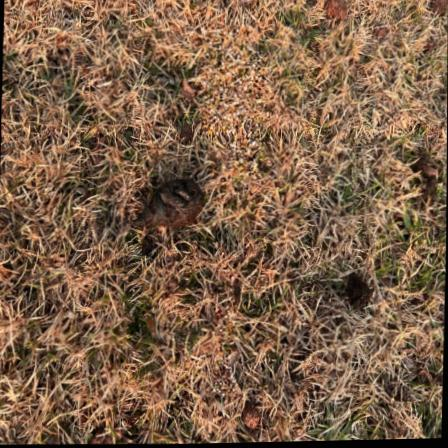dog-poop: (132, 180, 208, 233)
